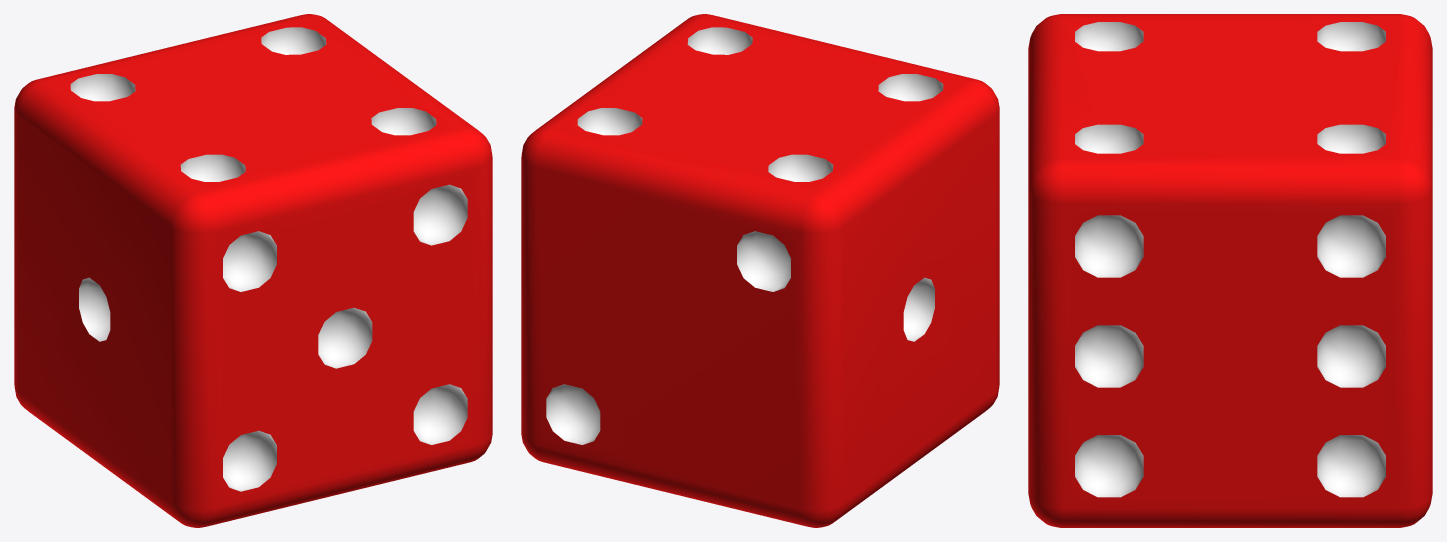
The model's file is dice_red.fbx.
3 renders of one model, left to right at view 1: azimuth 30°, elevation 25°; view 2: azimuth 150°, elevation 25°; view 3: azimuth 270°, elevation 25°, orthographic. The views are drawn at different scales.
Visible parts, largest first — view 1: dice_red; view 2: dice_red; view 3: dice_red.
Part boxes in pixels (x1,y1,x2,y2): dice_red: [14, 14, 492, 527]; dice_red: [521, 14, 999, 527]; dice_red: [1028, 14, 1432, 527].
Bounding box in the file's own units: 5 × 5 × 5.
1 material, 1 textured.
